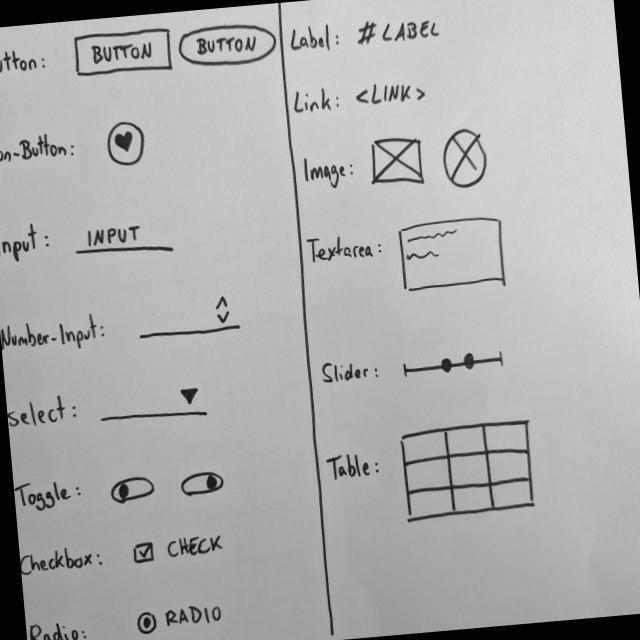button: (72, 25, 176, 84), (177, 18, 281, 73)
checkbox: (132, 529, 229, 568)
icon-button: (105, 120, 149, 169)
image: (439, 125, 493, 195), (370, 132, 427, 193)
input: (73, 214, 179, 265)
label: (355, 11, 444, 50)
link: (353, 77, 431, 110)
number-input: (133, 291, 243, 343)
radio: (136, 601, 227, 638)
select: (97, 383, 211, 429)
slider: (399, 347, 510, 384)
table: (399, 415, 541, 528)
textarea: (396, 210, 512, 297)
toggle: (108, 472, 157, 506), (179, 467, 229, 500)
